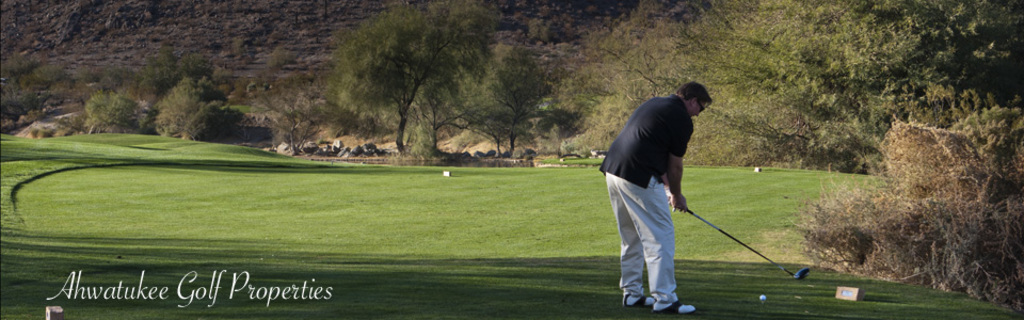Tree: (555, 0, 1024, 301), (319, 0, 554, 158), (7, 42, 328, 141)
